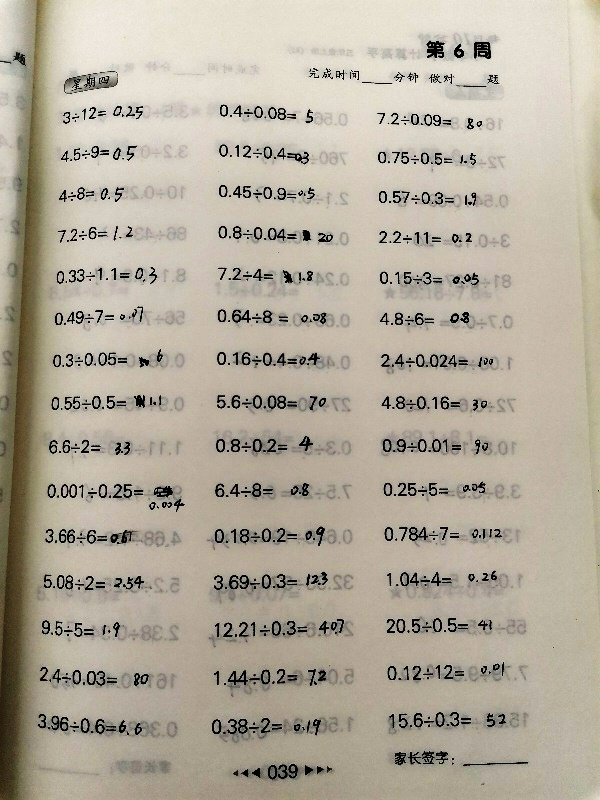equation: (43, 477, 188, 510), (367, 100, 494, 134), (379, 562, 507, 592), (36, 665, 160, 692), (44, 429, 144, 462), (378, 472, 495, 500), (385, 708, 514, 733), (383, 661, 512, 686), (211, 523, 329, 550), (369, 304, 482, 332), (210, 616, 347, 639), (51, 138, 151, 169), (48, 220, 151, 249), (210, 664, 329, 689), (48, 347, 166, 372), (207, 713, 324, 738), (210, 569, 331, 593), (210, 478, 317, 505), (381, 523, 506, 545), (34, 713, 146, 737), (377, 350, 497, 372), (378, 434, 492, 457), (383, 614, 496, 637), (47, 391, 165, 413), (52, 102, 155, 127), (53, 263, 160, 287), (214, 223, 336, 244), (213, 391, 329, 413), (211, 433, 316, 457), (377, 392, 491, 414), (213, 306, 329, 327), (214, 348, 324, 370), (39, 571, 147, 593), (375, 267, 482, 289), (50, 304, 147, 327), (374, 187, 480, 208), (52, 183, 140, 208), (213, 265, 317, 286), (214, 182, 318, 203), (214, 142, 313, 164), (215, 102, 317, 123), (373, 148, 480, 168), (376, 227, 476, 248), (41, 525, 135, 547), (37, 617, 123, 641)
